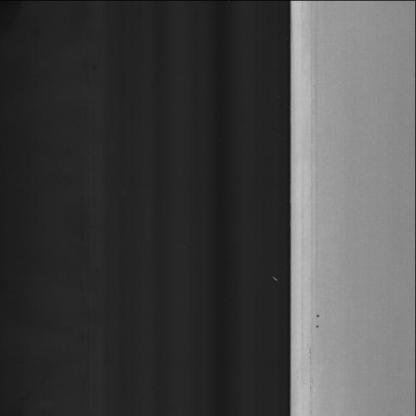inclusion: (312, 306, 323, 337)
